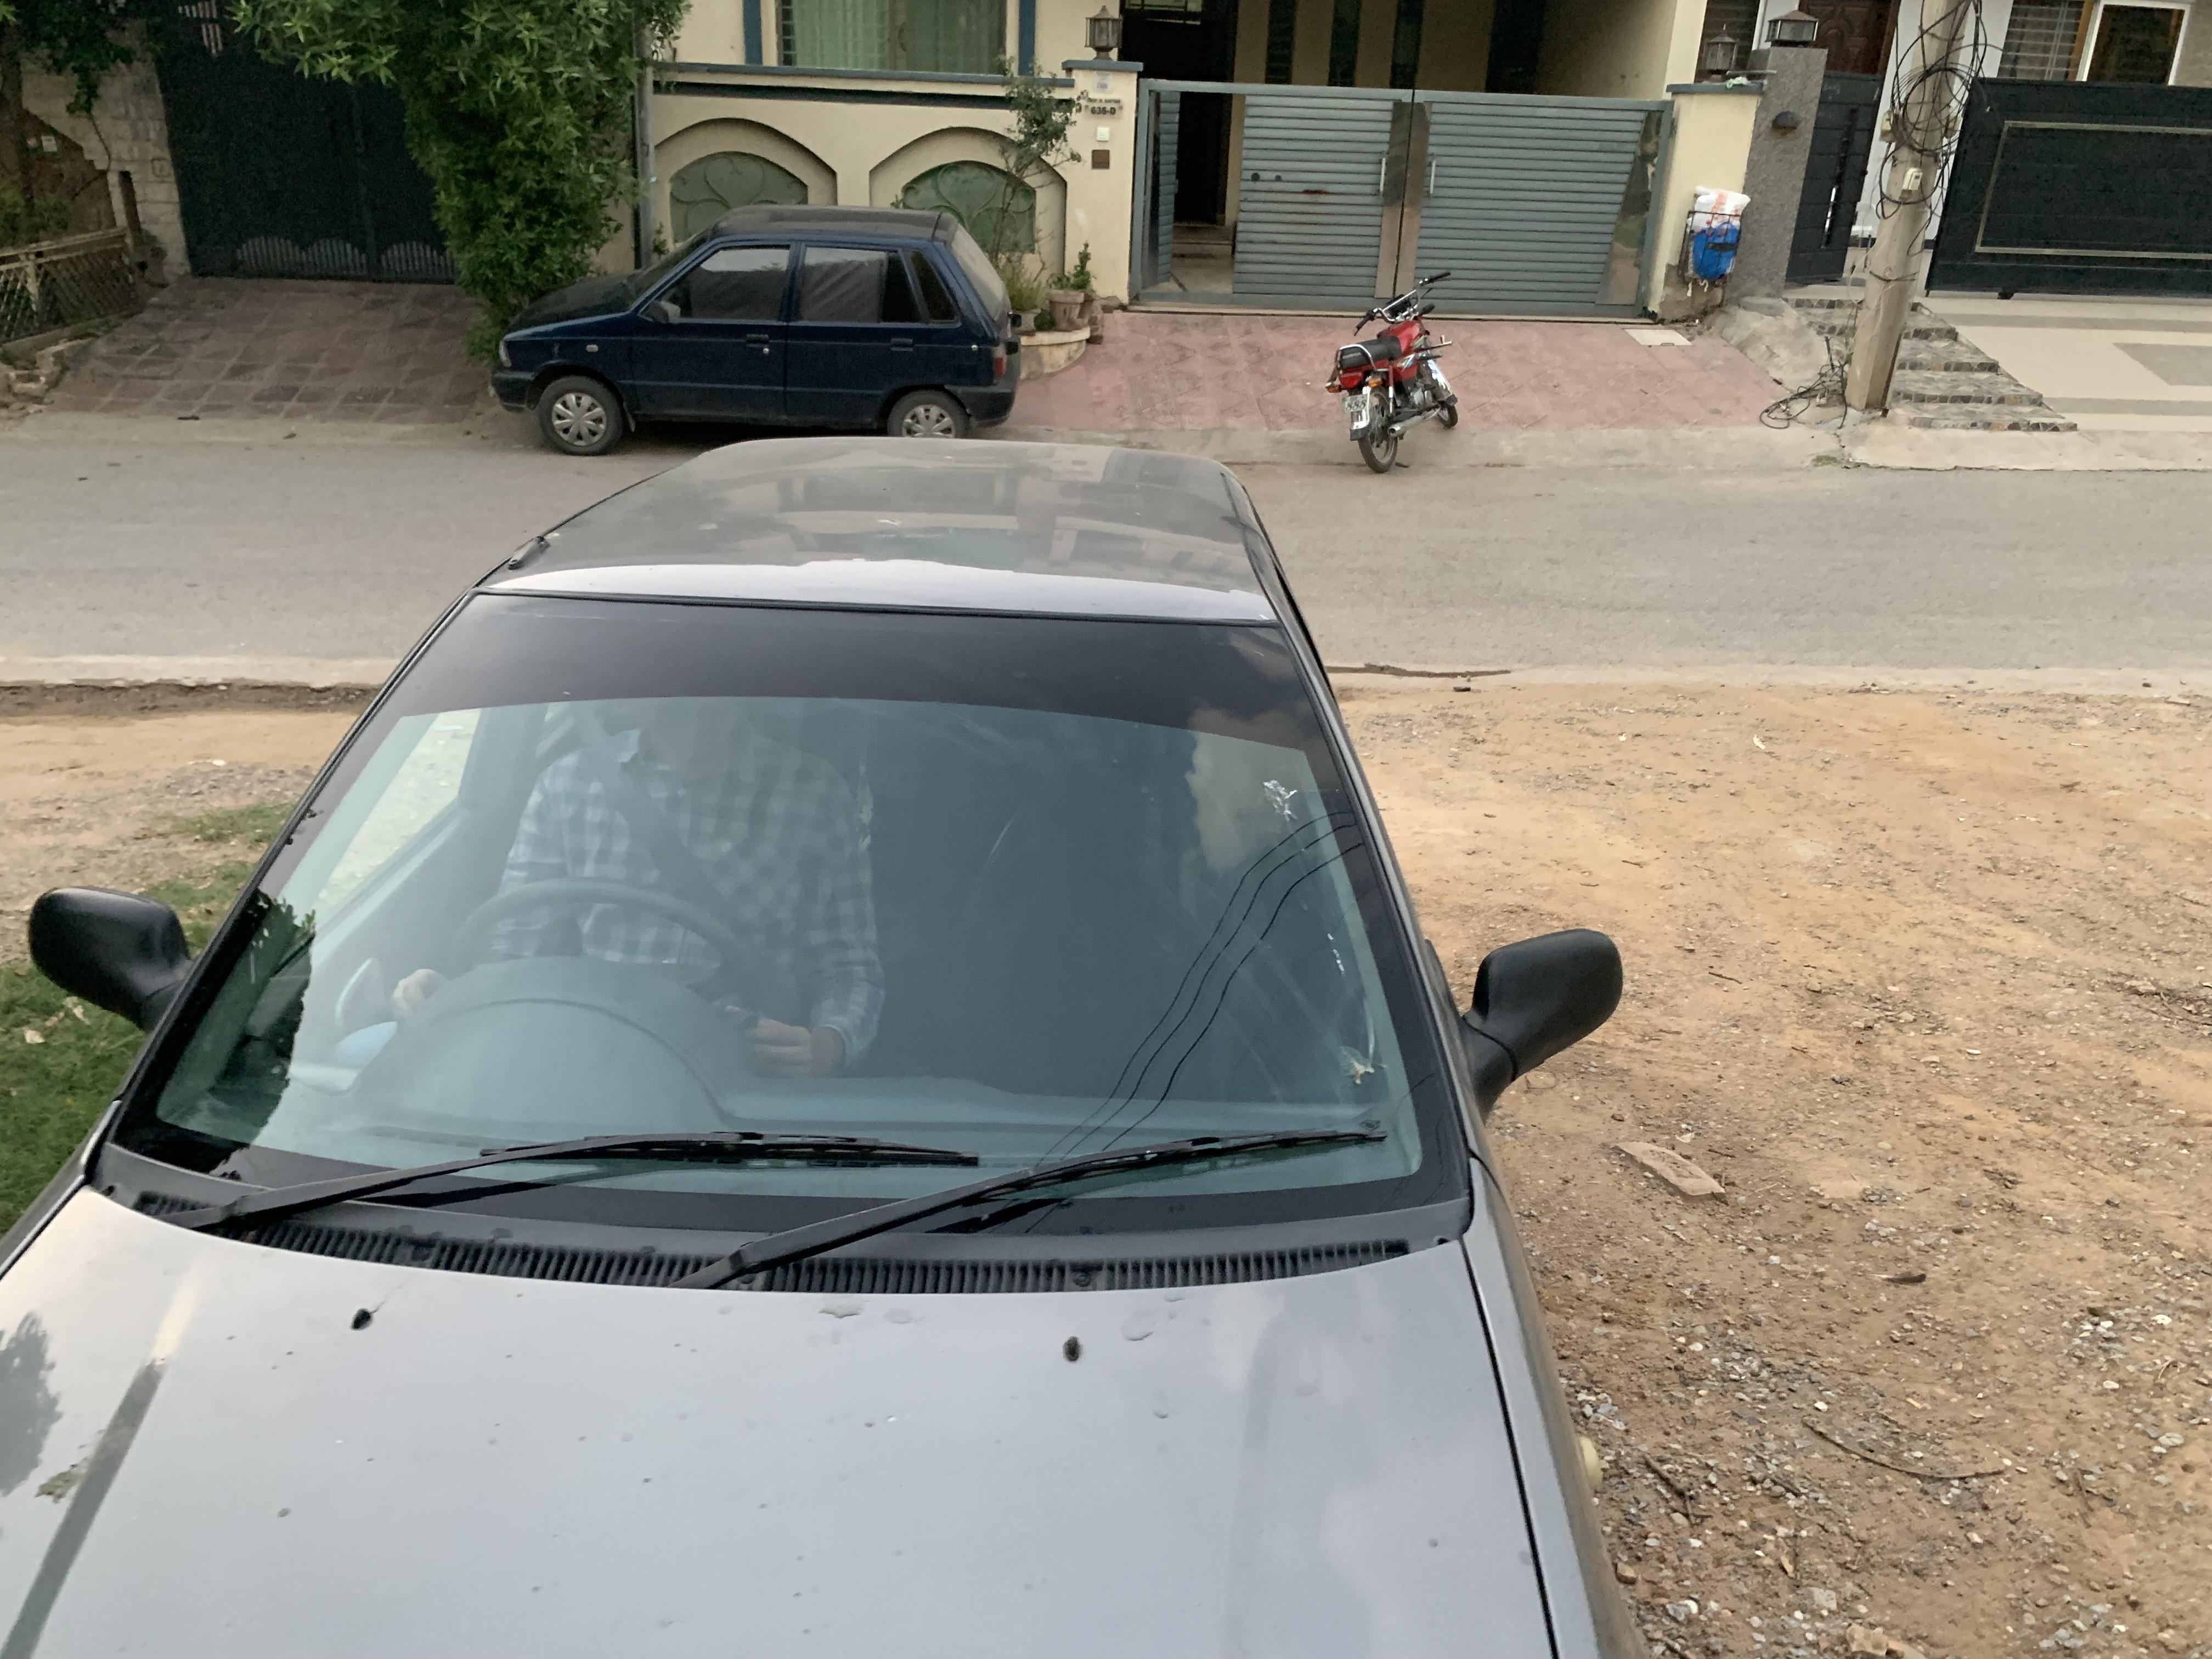windshield: (40, 549, 1482, 1323)
